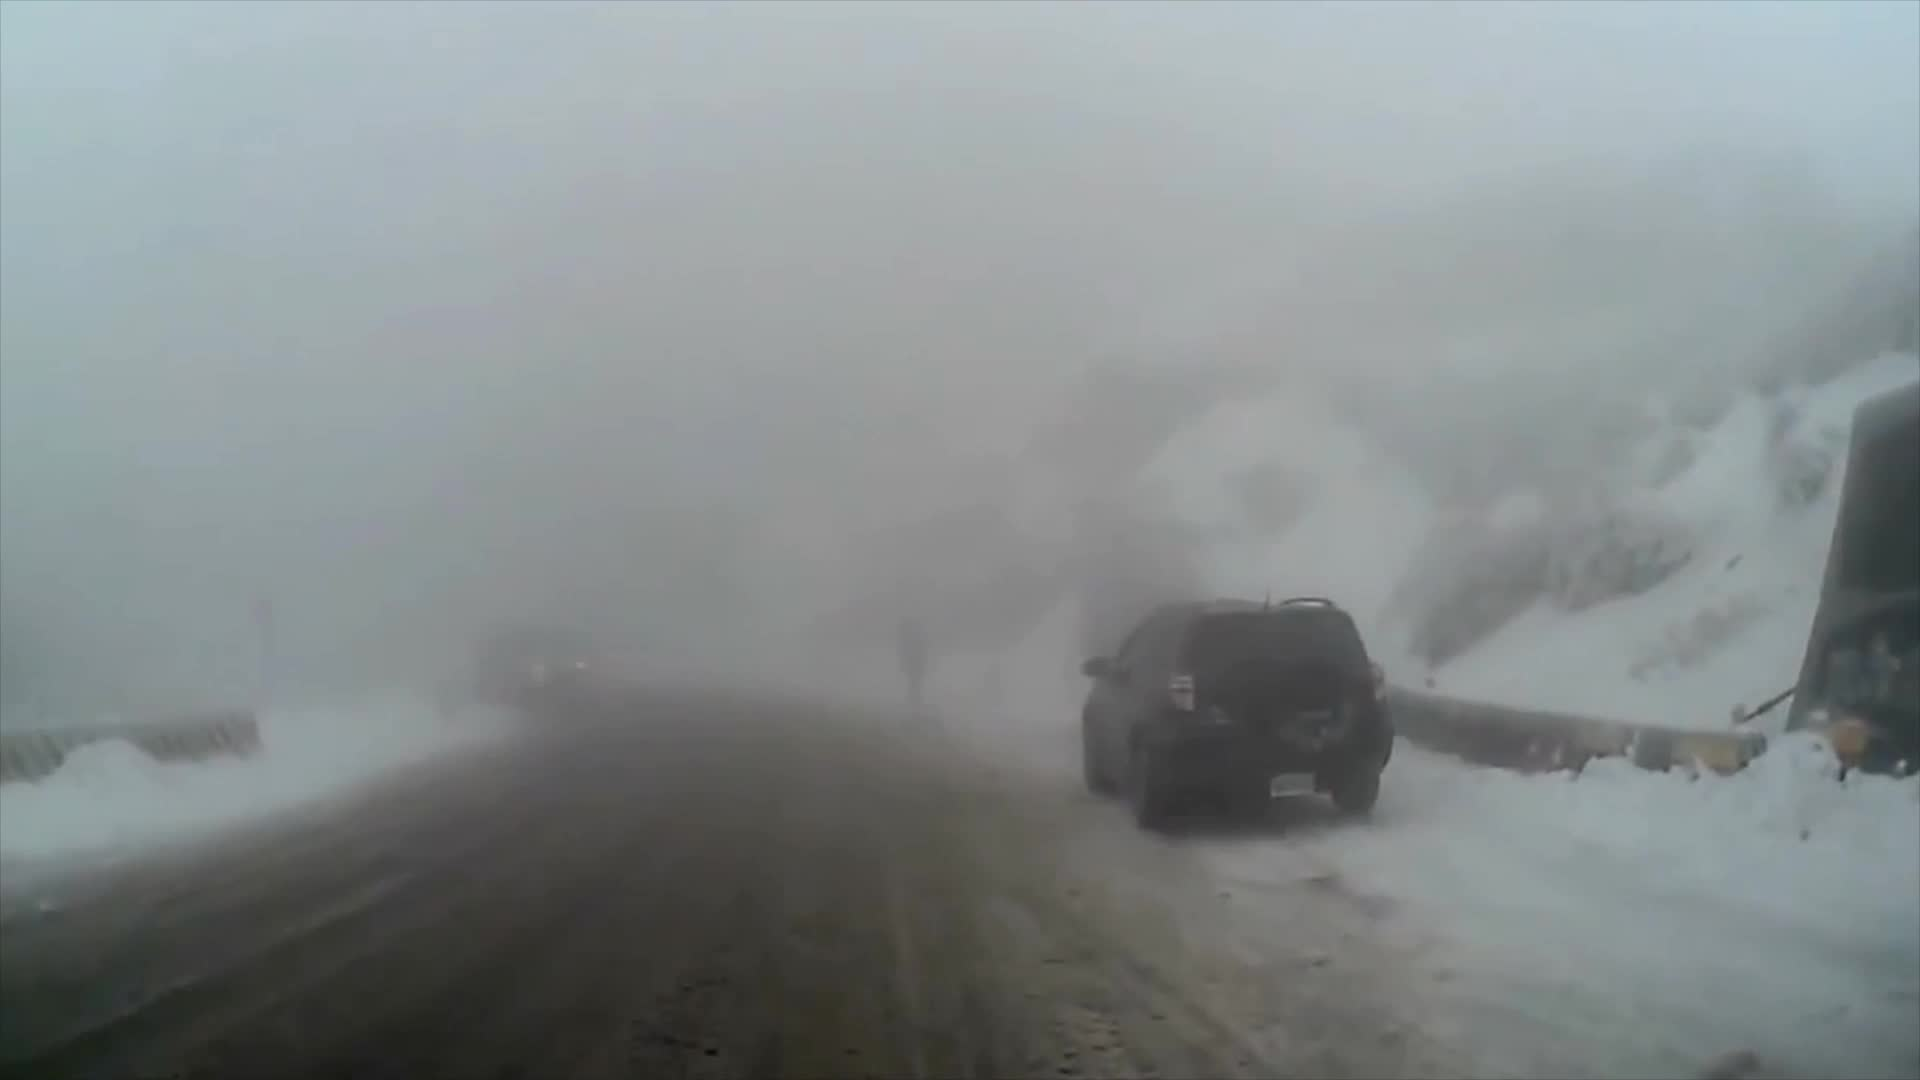vehicle: (1079, 592, 1396, 836)
